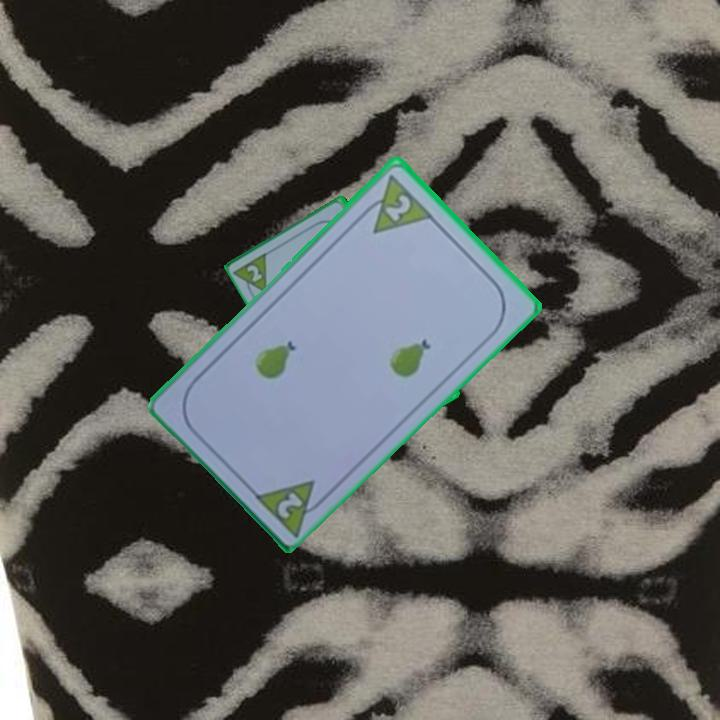2p: (355, 170, 436, 236), (273, 487, 307, 521), (243, 261, 266, 285)
